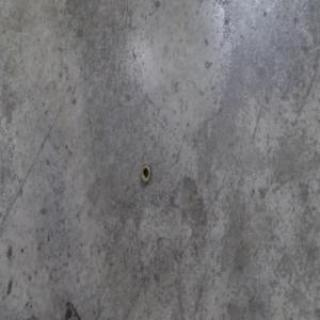Nuttrack_idkeyframe: (138, 162, 151, 184)
